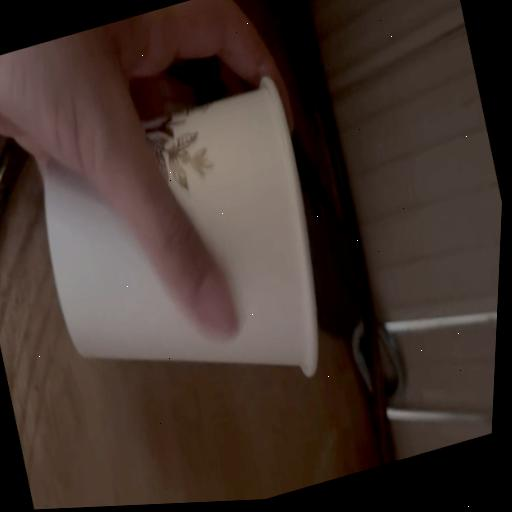Ly_giay: (44, 77, 317, 375)
